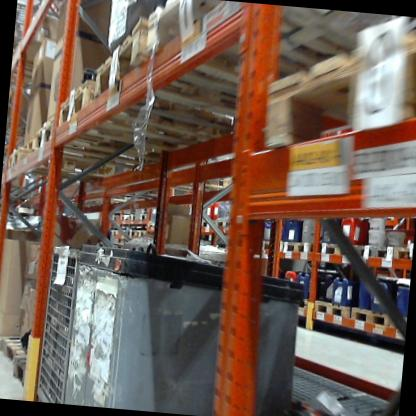pallet: (151, 0, 410, 111), (87, 0, 278, 141), (48, 73, 201, 176), (28, 118, 136, 184), (2, 145, 127, 202), (310, 296, 354, 326), (314, 236, 360, 263), (349, 301, 393, 329), (10, 347, 37, 391), (0, 329, 27, 367), (213, 209, 241, 237), (357, 240, 390, 263), (281, 238, 314, 259), (256, 238, 284, 259), (388, 239, 413, 262), (288, 296, 315, 313), (134, 228, 152, 242), (200, 217, 214, 230), (111, 228, 126, 240), (123, 227, 136, 239), (138, 212, 150, 225), (128, 212, 140, 224), (118, 211, 128, 224), (107, 213, 119, 223)
stillage: (31, 237, 79, 403)
